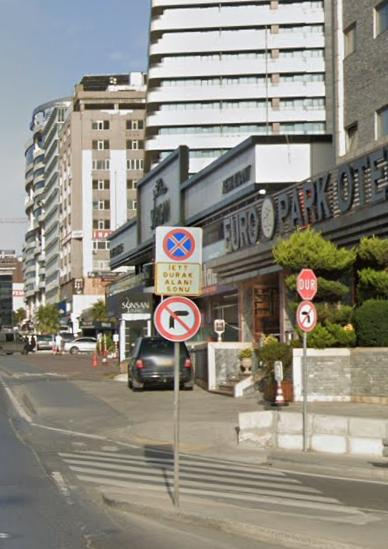rightturnsareforbidden: (151, 296, 204, 342), (297, 301, 319, 333)
stop: (295, 269, 319, 300)
